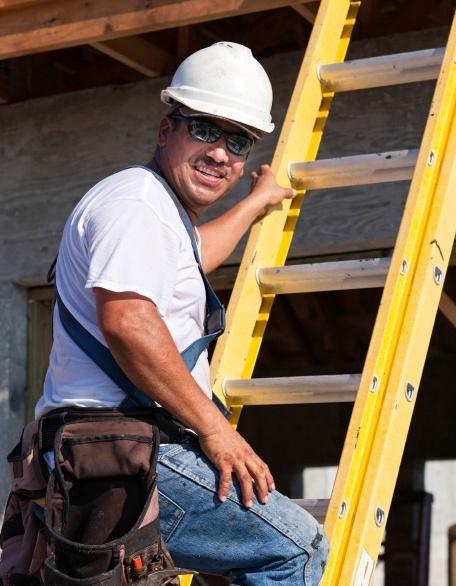helmet: (163, 43, 277, 139)
